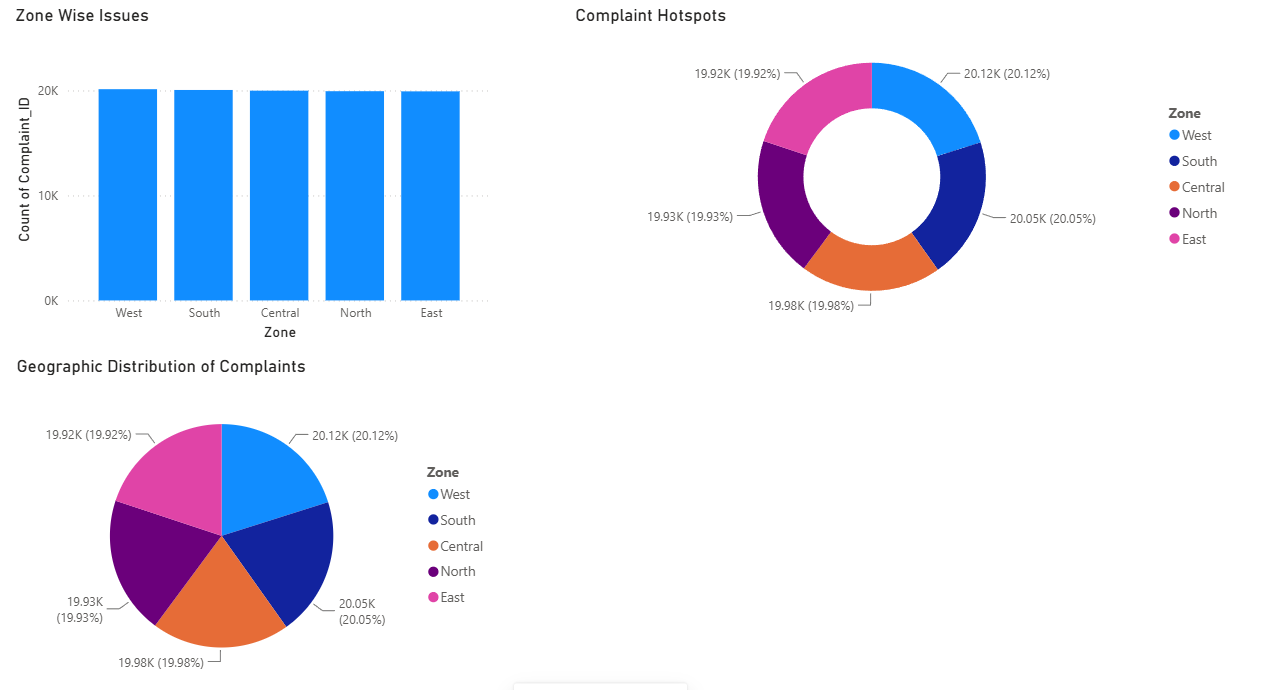

Layout of this report page (visuals, bound fields, positions):
{"tool":"powerbi","page":{"name":"Geographic Dashboard","canvas":[1280,720],"ordinal":2},"visuals":[{"type":"clusteredColumnChart","title":"Zone Wise Issues","fields":{"Category":["Smart_City_Complaints.Zone"],"Y":["CountNonNull(Smart_City_Complaints.Complaint_ID)"]},"box":[12.5,11.2,476.2,333.8],"z":0},{"type":"donutChart","title":"Complaint Hotspots","fields":{"Category":["Smart_City_Complaints.Zone"],"Y":["CountNonNull(Smart_City_Complaints.Complaint_ID)"]},"box":[560,11.2,655,318.8],"z":1},{"type":"pieChart","title":"Geographic Distribution of Complaints","fields":{"Category":["Smart_City_Complaints.Zone"],"Y":["CountNonNull(Smart_City_Complaints.Complaint_ID)"]},"box":[13,355,476,334],"z":2}]}

Visuals, with their boxes on the page's 1280x720 design canvas (x1, y1, x2, y2). These are canvas units, not pixel positions in the 1270x690 screenshot, which may show the page scaled, cropped or inside an application window:
"Zone Wise Issues" clusteredColumnChart: select_region(12, 11, 489, 345)
"Complaint Hotspots" donutChart: select_region(560, 11, 1215, 330)
"Geographic Distribution of Complaints" pieChart: select_region(13, 355, 489, 689)
